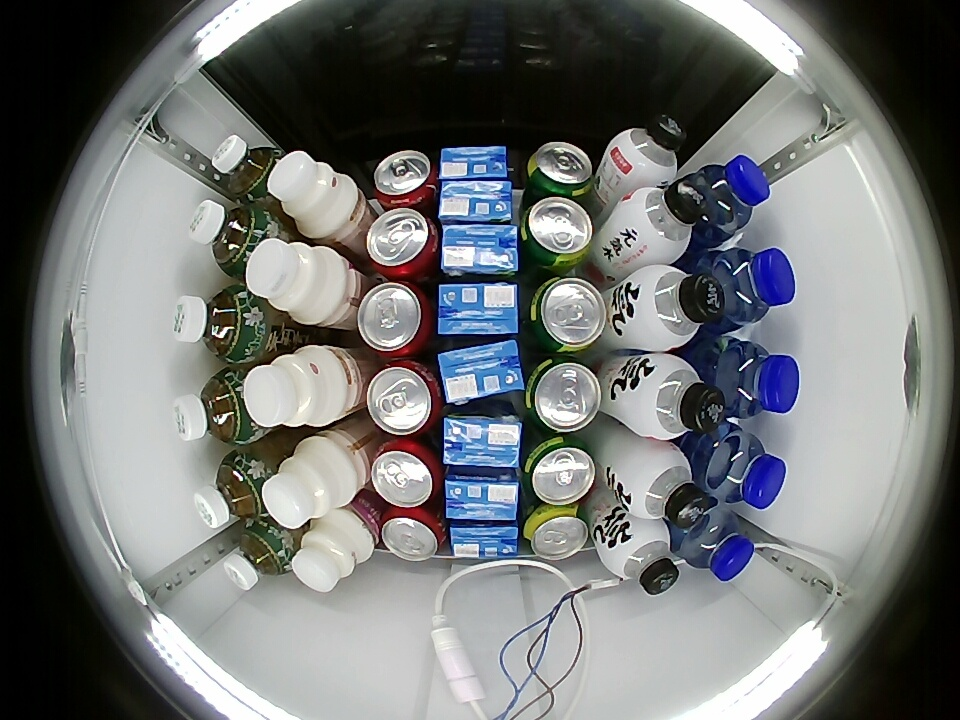kele: (357, 281, 435, 358), (366, 360, 443, 437), (366, 207, 440, 279), (370, 437, 442, 508), (373, 150, 437, 209), (380, 506, 444, 562)
maidong: (701, 429, 788, 510), (710, 247, 796, 327), (714, 340, 800, 420), (679, 504, 756, 582), (699, 155, 771, 234)
moliqingcha: (171, 283, 260, 364), (172, 366, 261, 446), (188, 198, 275, 278), (195, 451, 270, 529), (222, 518, 296, 590), (211, 134, 285, 206)
weitanai: (438, 338, 525, 405), (437, 280, 521, 337), (442, 408, 523, 467), (441, 224, 520, 278), (444, 468, 520, 521), (438, 179, 514, 225), (449, 520, 520, 560), (439, 146, 510, 184)
xuebi2: (526, 275, 607, 355), (524, 355, 602, 434), (519, 196, 594, 271), (522, 434, 597, 507), (526, 141, 595, 199), (521, 505, 589, 561)
yingyangkuaixian: (244, 344, 350, 431), (263, 434, 359, 529), (246, 237, 347, 327), (268, 150, 360, 241), (292, 511, 374, 592)
yuanqishui: (622, 264, 727, 351), (615, 441, 713, 532), (625, 353, 727, 440), (618, 177, 710, 266), (601, 518, 681, 596), (608, 112, 687, 188)
